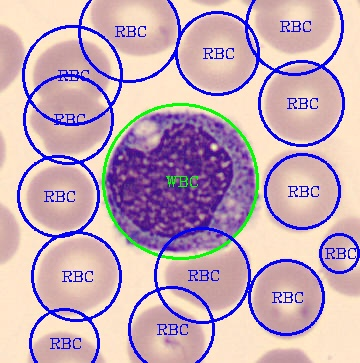RBC: (261, 146, 345, 236), (34, 234, 120, 318), (262, 60, 345, 143), (162, 236, 253, 311), (176, 12, 256, 95), (250, 255, 325, 341), (30, 36, 114, 109), (27, 87, 111, 156), (85, 0, 178, 58), (124, 300, 208, 361), (25, 162, 96, 232), (251, 0, 337, 55), (318, 211, 359, 299)
WBC: (108, 106, 260, 251)
